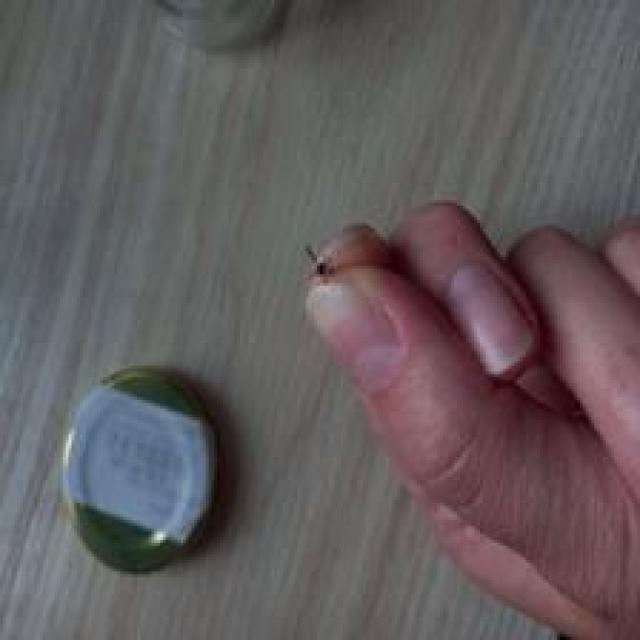Aedes albopictus: (303, 243, 337, 283)
